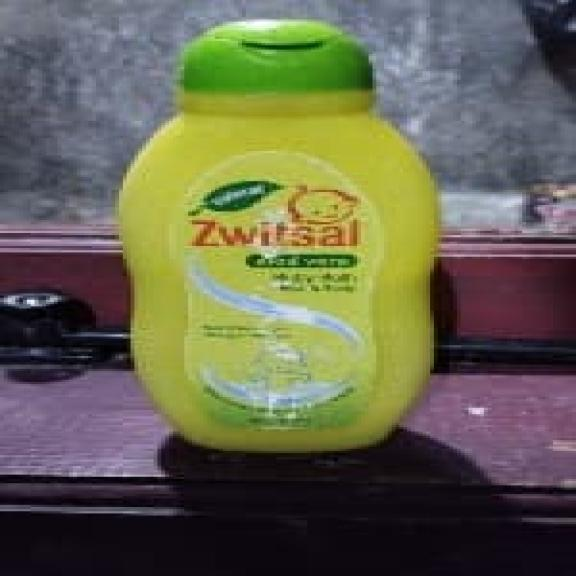Plastik: (120, 21, 437, 451)
